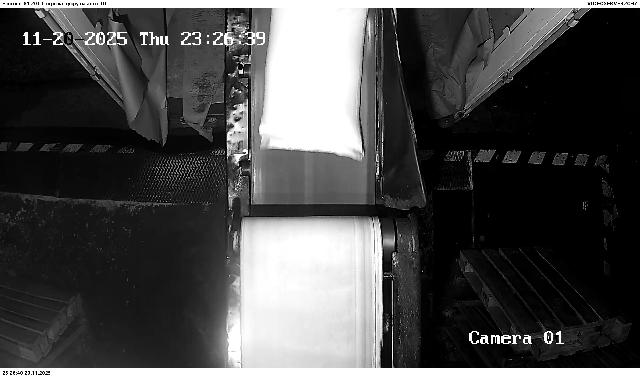bag: (260, 9, 372, 161)
